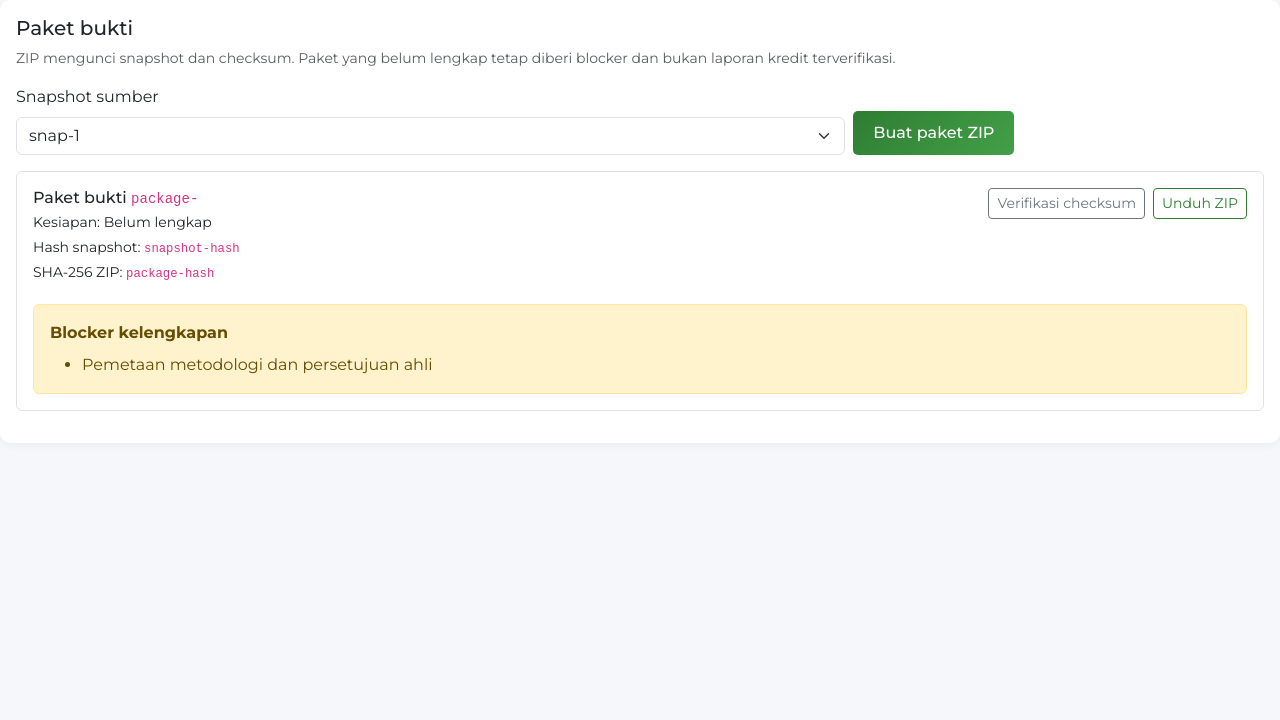
EvidencePackagePanel › builds from a completed snapshot, shows blockers, verifies and links the ZIP
This screenshot has width=1280, height=720.
Check: the text "Kesiapan: Belum lengkap" is shown, box top-left (33, 212), bottom-right (240, 233)
Check: the list item "Pemetaan metodologi dan persetujuan ahli" is shown, box top-left (82, 354), bottom-right (432, 374)
Click the button "Verifikasi checksum". click: (1067, 204)
box: top-left (988, 188), bottom-right (1145, 219)
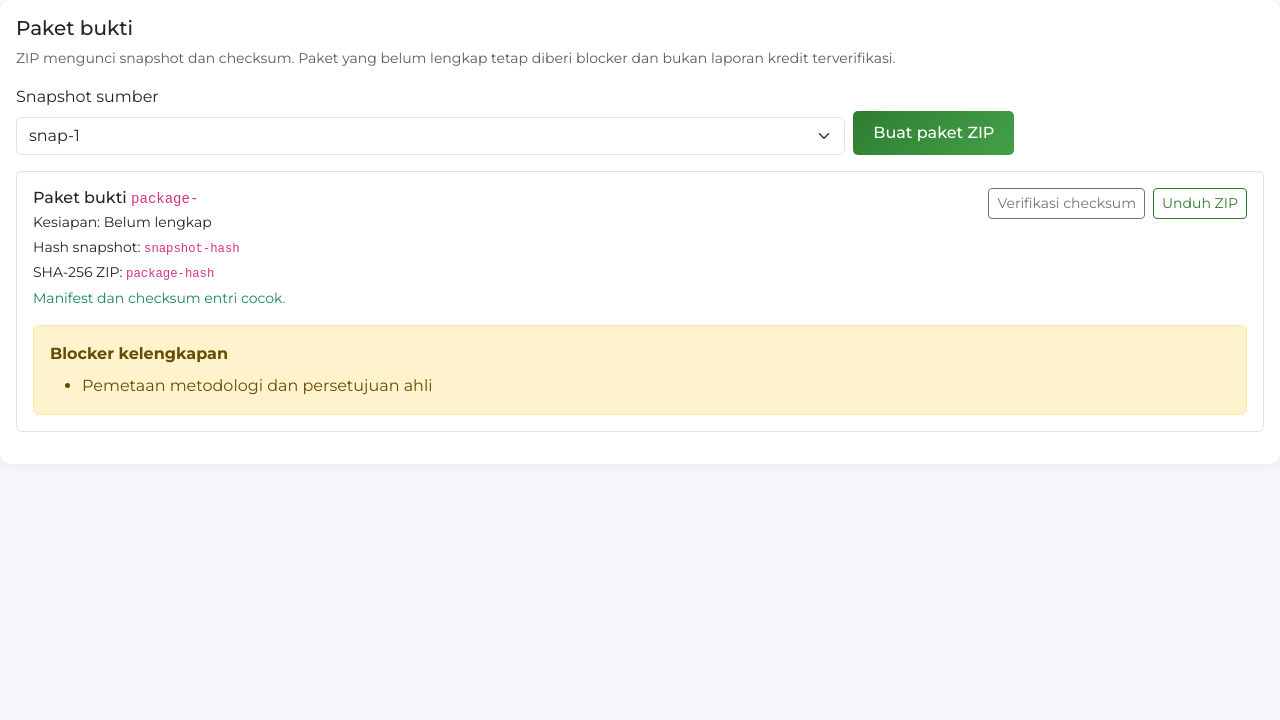
Check: the text "Manifest dan checksum entri cocok." is shown, box top-left (33, 288), bottom-right (286, 308)
Click the button "Buat paket ZIP". click: (934, 133)
box: top-left (853, 111), bottom-right (1014, 155)
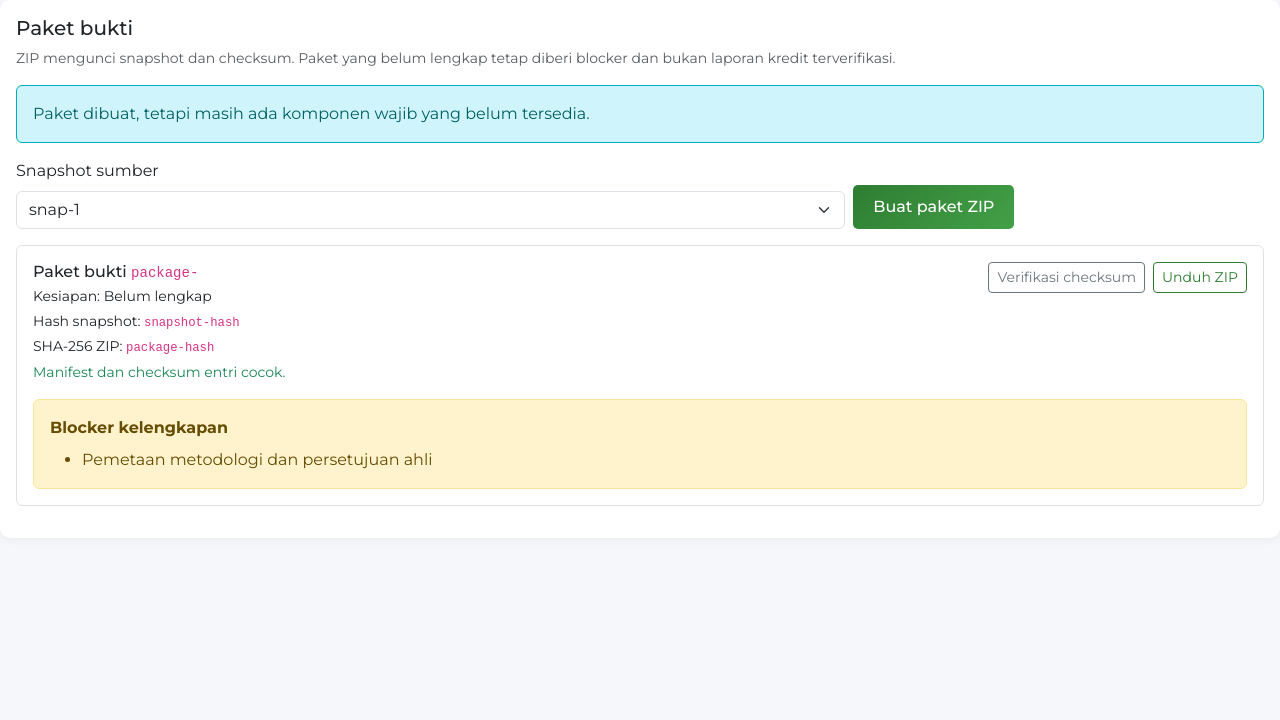
Check: the text "Paket dibuat, tetapi masih ada komponen wajib yang belum tersedia." is shown, box top-left (16, 85), bottom-right (1264, 143)
